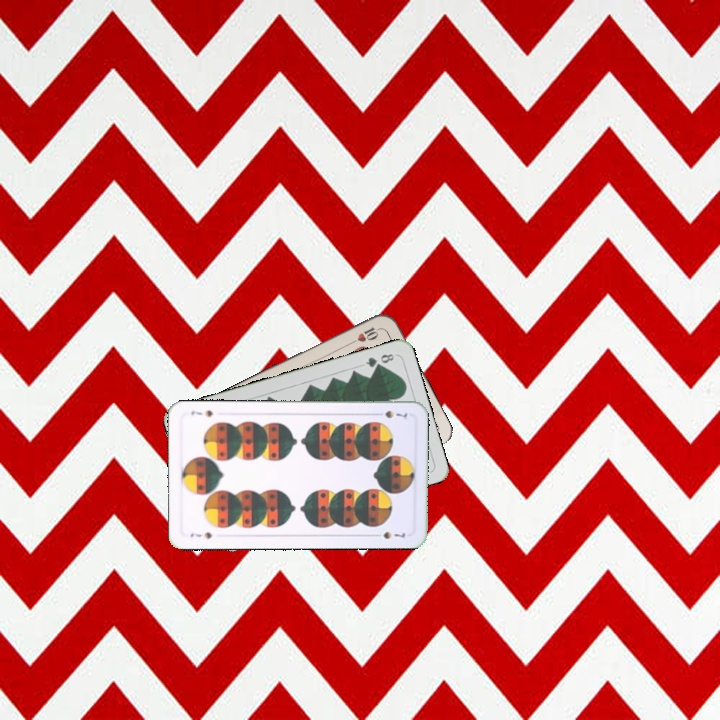G8: (361, 349, 397, 370)
H10: (345, 323, 384, 347)
S7: (371, 406, 412, 422), (186, 528, 214, 541)
